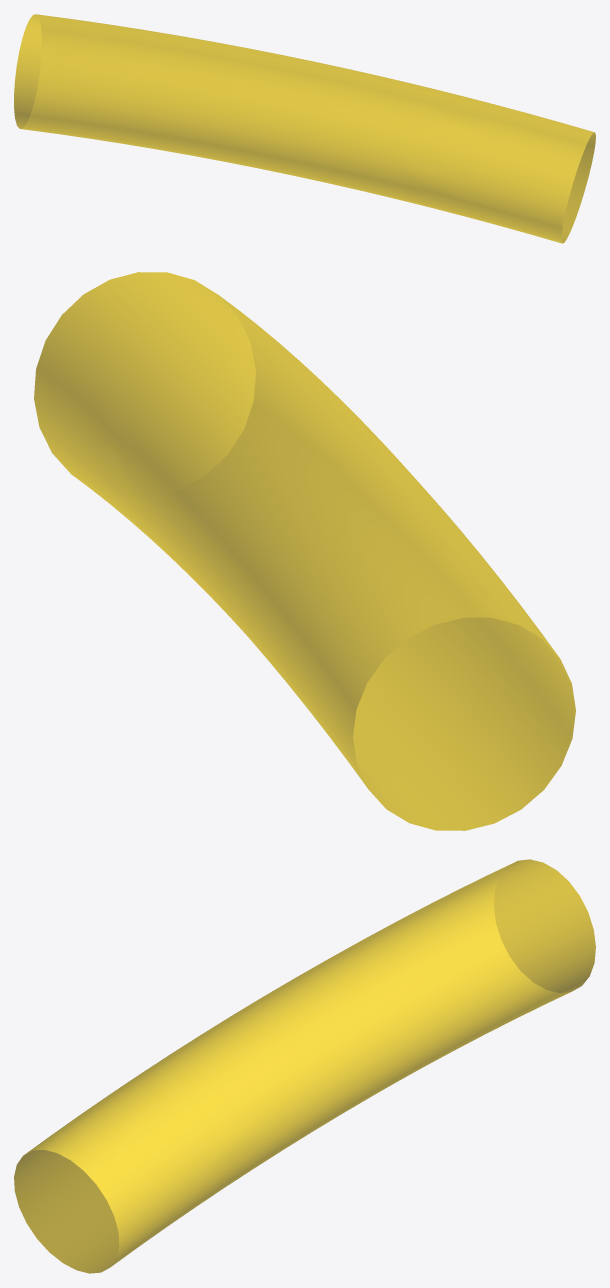
Rendered from Event_31209032_track_29.fbx.
3 views of the same model, one above another, from view 1: azimuth 30°, elevation 25°; view 2: azimuth 150°, elevation 25°; view 3: azimuth 270°, elevation 25° (orthographic). The views are drawn at different scales.
Parts seen in each view (by area): view 1: Model; view 2: Model; view 3: Model.
Part boxes in pixels (<box>): Model: <box>14,14,595,243</box>; Model: <box>34,272,575,830</box>; Model: <box>14,859,595,1273</box>.
Bounding box in the file's own units: 0.1692 × 0.0624 × 0.1639.
